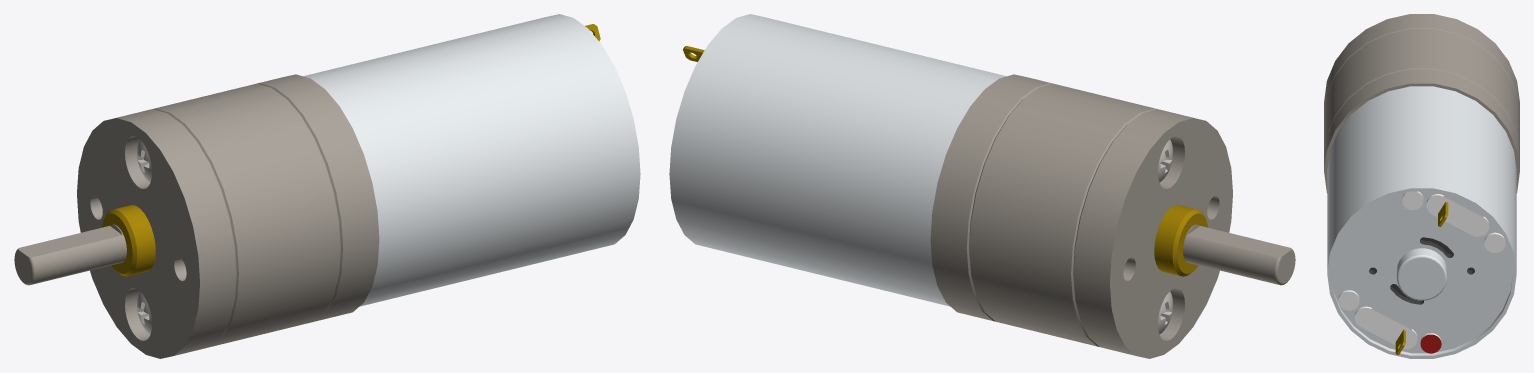
Rendered from Motor_25GA370-26x1-6V-320RPM.glb.
3 renders of one model, left to right at view 1: azimuth 30°, elevation 25°; view 2: azimuth 150°, elevation 25°; view 3: azimuth 270°, elevation 25°, orthographic. The views are drawn at different scales.
Parts seen in each view (by area): view 1: NAUO1; view 2: NAUO1; view 3: NAUO1.
Part boxes in pixels (box(x1,y1,x2,y2)): NAUO1: box(14, 14, 640, 358); NAUO1: box(669, 14, 1295, 358); NAUO1: box(1324, 14, 1519, 358).
Size of the model in its own units: 0.0689 by 0.0248 by 0.025.
